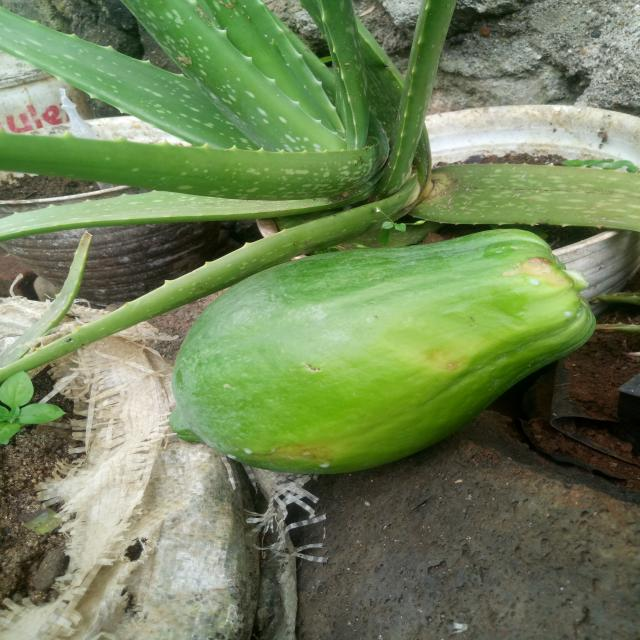Pepaya unrippen: (142, 232, 599, 463)
